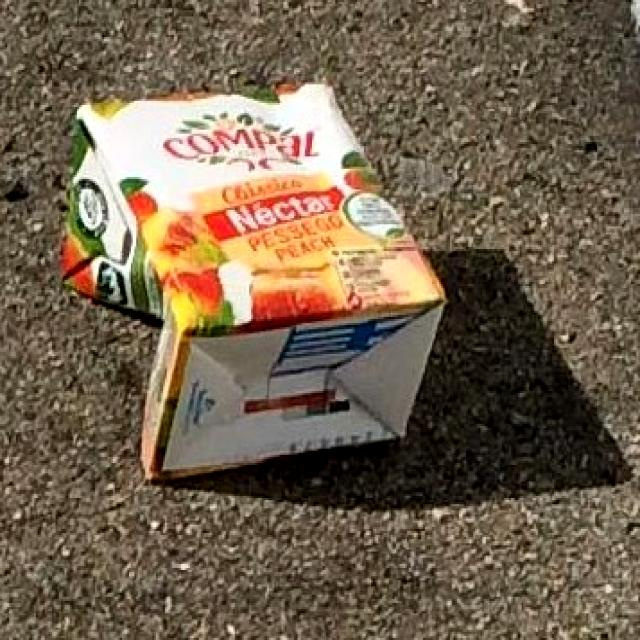Trash: (60, 72, 448, 480)
